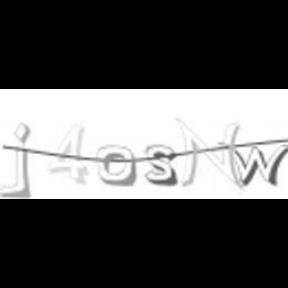4: (46, 120, 92, 186)
N: (174, 112, 246, 194), (220, 140, 288, 186)
j: (1, 120, 37, 200)
o: (91, 142, 139, 188)
s: (143, 142, 179, 188)
